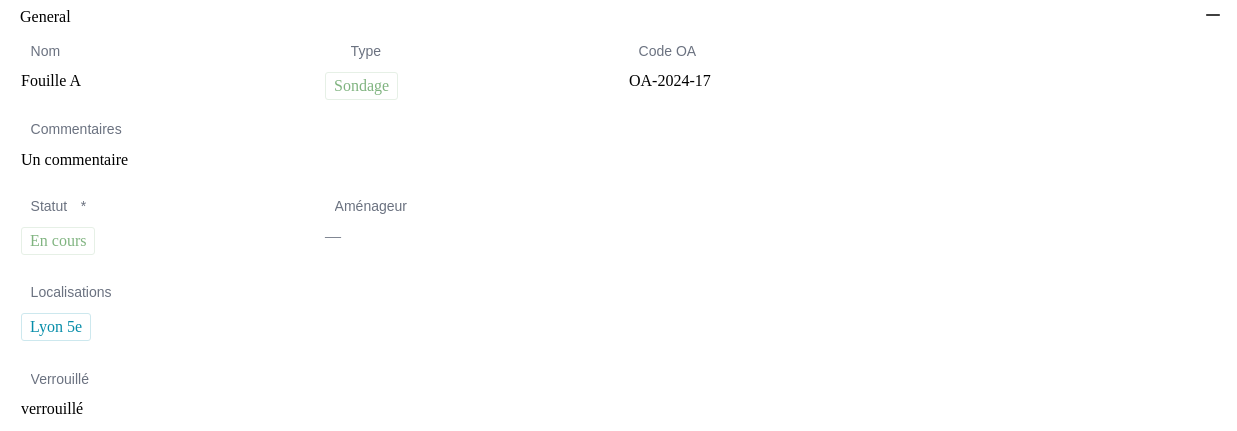
Scenario: ProjectFicheTab — thesaurus menu on the field label › portals the menu to the body, outside the panel's own scroll container
Step 1. Click the button "Type" → (363, 51), box [318,34,408,68]
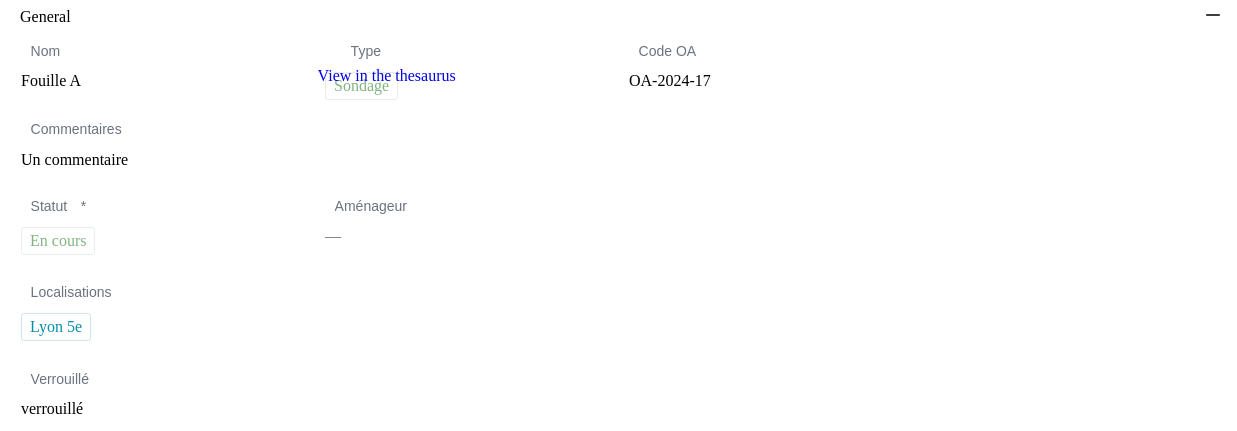
Now the element showing "View in the thesaurus" is shown, box [318,68,456,84]
